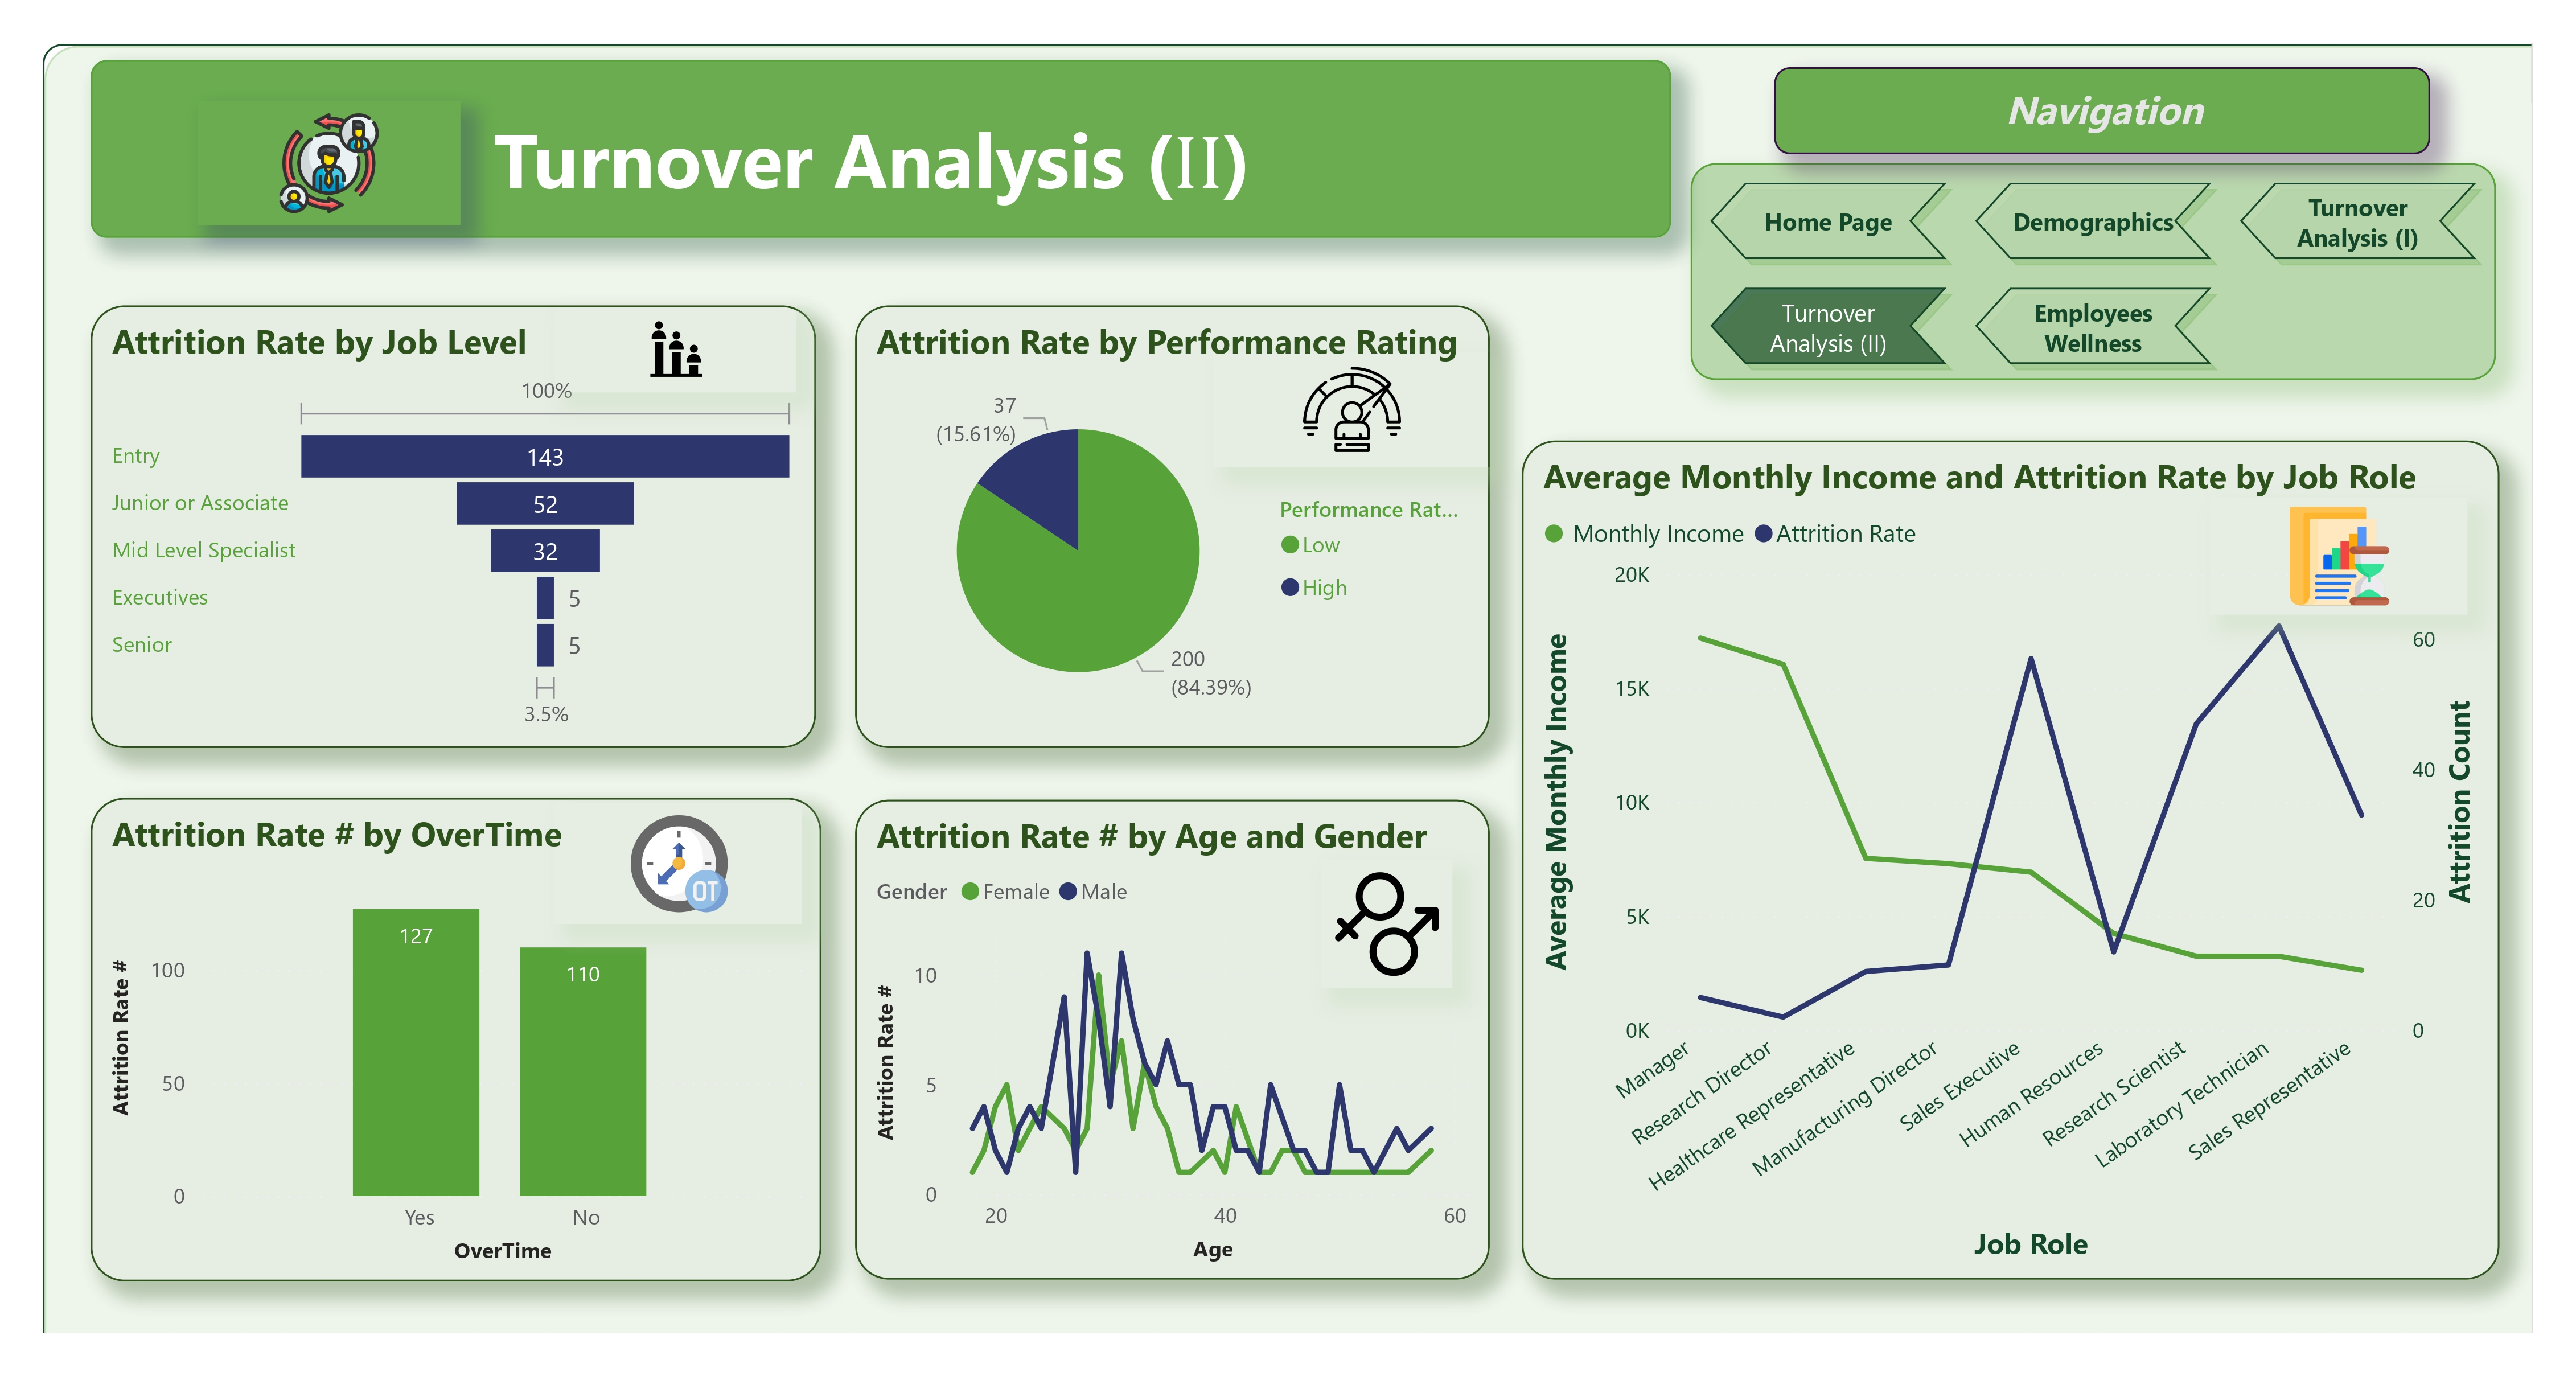

Layout of this report page (visuals, bound fields, positions):
{"tool":"powerbi","page":{"name":"Turnover Analysis (II) ","canvas":[1400,725],"ordinal":4},"visuals":[{"type":"shape","box":[0,0,1450,850],"z":0},{"type":"textbox","box":[26.7,8.9,888.9,100],"z":1000},{"type":"image","box":[86.7,31.7,148.3,70],"z":2000},{"type":"funnel","title":"Attrition Rate by Job Level","fields":{"Y":["HR-Employee-Attrition.Attrition Rate #"],"Category":["HR-Employee-Attrition.JobLevel (groups)"]},"box":[26.7,146.7,407.8,248.9],"z":3000,"group":"g4"},{"type":"columnChart","fields":{"Y":["HR-Employee-Attrition.Attrition Rate #"],"Category":["HR-Employee-Attrition.OverTime"]},"box":[26.7,424.4,411.1,271.1],"z":3000},{"type":"lineChart","title":"Average Monthly Income and Attrition Rate  by Job Role","fields":{"Category":["HR-Employee-Attrition.JobRole"],"Y2":["HR-Employee-Attrition.Attrition Rate #"],"Y":["Avg(HR-Employee-Attrition.MonthlyIncome)"]},"box":[831.7,223.3,549.9,472.3],"z":4000,"group":"g1"},{"type":"image","box":[288.3,426.7,138.3,68.3],"z":4000},{"type":"pageNavigator","box":[926.7,66.7,453.3,122.2],"z":5000},{"type":"image","box":[288,146.7,135.9,48.9],"z":5000,"group":"g4"},{"type":"group","id":"g1","title":"Group 1","box":[831.7,223.3,550,471.7],"z":6000},{"type":"group","id":"g2","title":"Group 2","box":[456.7,146.7,356.7,248.3],"z":7000},{"type":"pieChart","title":"Attrition Rate by Performance Rating","fields":{"Y":["HR-Employee-Attrition.Attrition Rate #"],"Category":["HR-Employee-Attrition.PerformanceRating (groups)"]},"box":[456.7,146.7,357.4,248.9],"z":7000,"group":"g2"},{"type":"group","id":"g3","title":"Group 3","box":[456.7,425,356.7,270],"z":8000},{"type":"lineChart","fields":{"Y":["HR-Employee-Attrition.Attrition Rate #"],"Category":["HR-Employee-Attrition.Age"],"Series":["HR-Employee-Attrition.Gender"]},"box":[456.7,425,357.4,270.2],"z":8000,"group":"g3"},{"type":"textbox","box":[974.5,12.8,368.1,48.9],"z":9000},{"type":"group","id":"g4","title":"Group 4","box":[26.7,146.7,406,248.9],"z":10000},{"type":"image","box":[718.4,459,74.5,72.3],"z":11000,"group":"g3"},{"type":"image","box":[658.8,172.2,155.3,66],"z":12000,"group":"g2"},{"type":"image","box":[1218.4,255.2,145,66],"z":13000,"group":"g1"}]}

Visuals, with their boxes on the page's 1400x725 design canvas (x1, y1, x2, y2). These are canvas units, not pixel positions in the 2576x1376 screenshot, which may show the page scaled, cropped or inside an application window:
shape: <bbox>0, 0, 1450, 850</bbox>
textbox: <bbox>27, 9, 916, 109</bbox>
image: <bbox>87, 32, 235, 102</bbox>
"Attrition Rate by Job Level" funnel: <bbox>27, 147, 434, 396</bbox>
columnChart - HR-Employee-Attrition.Attrition Rate # x HR-Employee-Attrition.OverTime: <bbox>27, 424, 438, 696</bbox>
"Average Monthly Income and Attrition Rate  by Job Role" lineChart: <bbox>832, 223, 1382, 696</bbox>
image: <bbox>288, 427, 427, 495</bbox>
pageNavigator: <bbox>927, 67, 1380, 189</bbox>
image: <bbox>288, 147, 424, 196</bbox>
"Group 1" group: <bbox>832, 223, 1382, 695</bbox>
"Group 2" group: <bbox>457, 147, 813, 395</bbox>
"Attrition Rate by Performance Rating" pieChart: <bbox>457, 147, 814, 396</bbox>
"Group 3" group: <bbox>457, 425, 813, 695</bbox>
lineChart - HR-Employee-Attrition.Attrition Rate # x HR-Employee-Attrition.Age: <bbox>457, 425, 814, 695</bbox>
textbox: <bbox>974, 13, 1343, 62</bbox>
"Group 4" group: <bbox>27, 147, 433, 396</bbox>
image: <bbox>718, 459, 793, 531</bbox>
image: <bbox>659, 172, 814, 238</bbox>
image: <bbox>1218, 255, 1363, 321</bbox>
